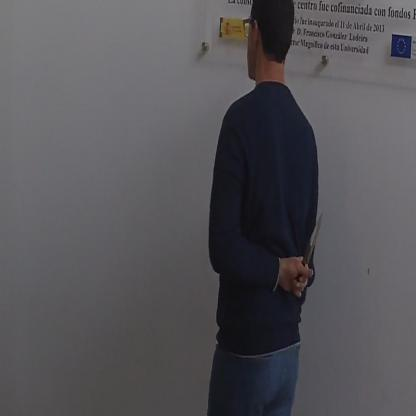knife: (292, 205, 326, 302)
